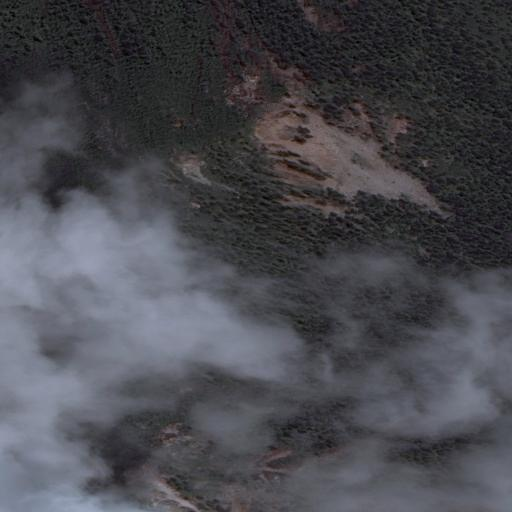landslide: (227, 52, 454, 225)
